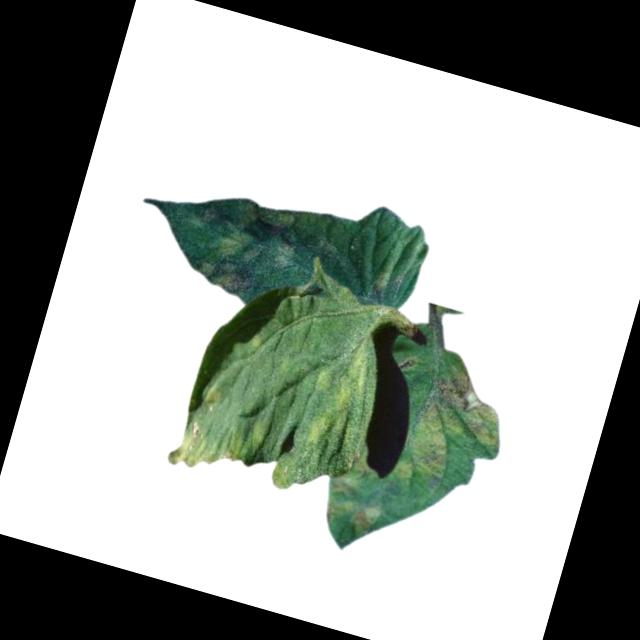Leaf_Mold: (392, 358, 514, 500), (176, 185, 303, 310), (297, 333, 373, 454), (165, 413, 247, 486), (315, 473, 390, 541), (200, 385, 230, 416)
